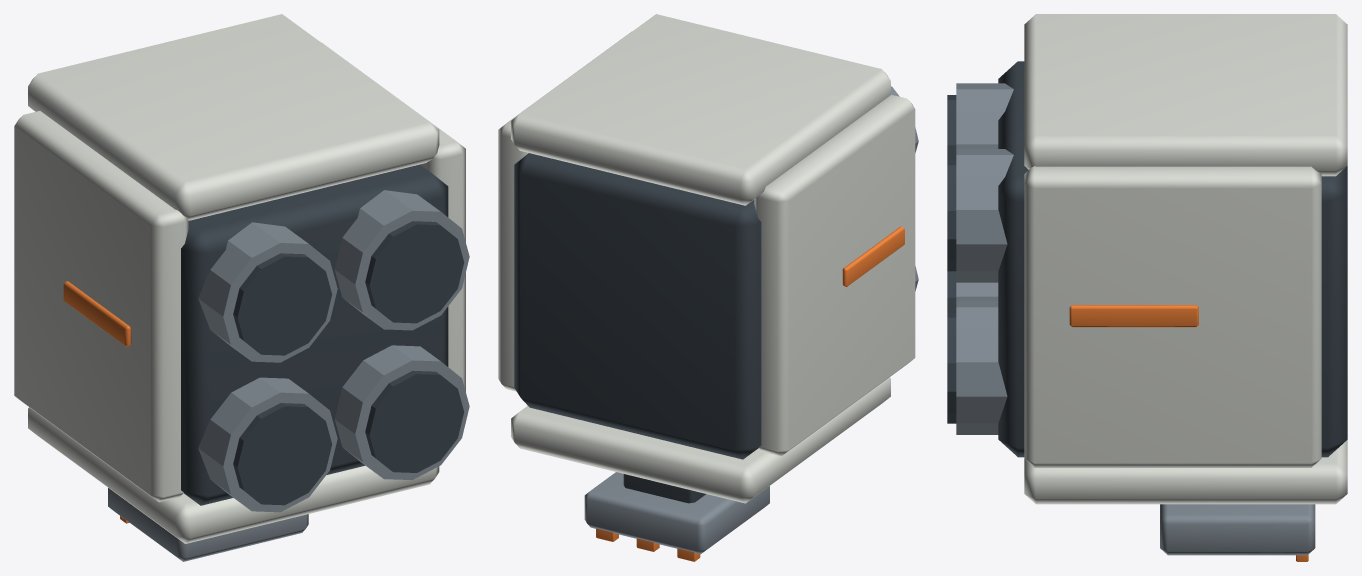
Rendered from VXAUX_MISSILE_POD_v001.fbx.
The picture shows the model from 3 angles, left to right: view 1: azimuth 30°, elevation 25°; view 2: azimuth 150°, elevation 25°; view 3: azimuth 270°, elevation 25°; orthographic projection. The views are drawn at different scales.
Parts seen in each view (by area): view 1: Top armor, Split cheek armor, Graphite tube housing, Bottom armor, Launch tube dark bore.001, Launch tube dark bore.003, Launch tube dark bore, Launch tube dark bore.002, Launch tube rim.001, Launch tube rim.003, Launch tube rim, Launch tube rim.002 (+3 smaller); view 2: Graphite tube housing, Top armor, Split cheek armor, Bottom armor, Universal mounting shoe, Split cheek armor.001, Orange cheek stripe, Mount neck; view 3: Split cheek armor.001, Top armor, Graphite tube housing, Bottom armor, Universal mounting shoe, Launch tube rim.003, Launch tube rim.002, Launch tube rim.001, Orange cheek stripe.001, Launch tube dark bore.002, Launch tube dark bore.003, Launch tube rim (+1 smaller).
Part boxes in pixels (bbox=[...]): Top armor: bbox=[28, 14, 439, 220]; Split cheek armor: bbox=[14, 111, 188, 501]; Graphite tube housing: bbox=[181, 164, 448, 505]; Bottom armor: bbox=[28, 407, 439, 543]; Launch tube dark bore.001: bbox=[233, 253, 332, 355]; Launch tube dark bore.003: bbox=[365, 221, 464, 323]; Launch tube dark bore: bbox=[233, 403, 332, 505]; Launch tube dark bore.002: bbox=[365, 370, 463, 472]; Launch tube rim.001: bbox=[198, 222, 337, 362]; Launch tube rim.003: bbox=[334, 190, 469, 330]; Launch tube rim: bbox=[198, 377, 337, 512]; Launch tube rim.002: bbox=[334, 345, 469, 480]; Graphite tube housing: bbox=[514, 153, 761, 459]; Top armor: bbox=[511, 14, 890, 205]; Split cheek armor: bbox=[754, 94, 915, 456]; Bottom armor: bbox=[511, 377, 890, 503]; Universal mounting shoe: bbox=[584, 472, 769, 554]; Split cheek armor.001: bbox=[498, 31, 631, 391]; Orange cheek stripe: bbox=[842, 226, 904, 286]; Mount neck: bbox=[623, 474, 705, 503]; Split cheek armor.001: bbox=[1024, 166, 1321, 467]; Top armor: bbox=[1024, 14, 1347, 176]; Graphite tube housing: bbox=[998, 61, 1347, 457]; Bottom armor: bbox=[1024, 440, 1347, 504]; Universal mounting shoe: bbox=[1160, 504, 1315, 555]; Launch tube rim.003: bbox=[956, 149, 1013, 282]; Launch tube rim.002: bbox=[956, 301, 1007, 434]; Launch tube rim.001: bbox=[956, 83, 1013, 148]; Orange cheek stripe.001: bbox=[1069, 305, 1198, 327]; Launch tube dark bore.002: bbox=[947, 312, 956, 423]; Launch tube dark bore.003: bbox=[947, 160, 956, 271]; Launch tube rim: bbox=[956, 282, 998, 301].
Bounding box in the file's own units: 30 × 39.35 × 30.95.
